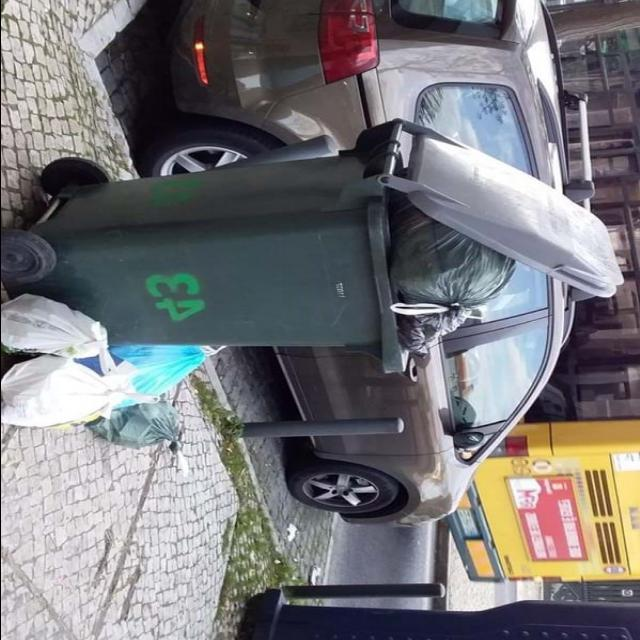Trashbag: (381, 195, 520, 347)
